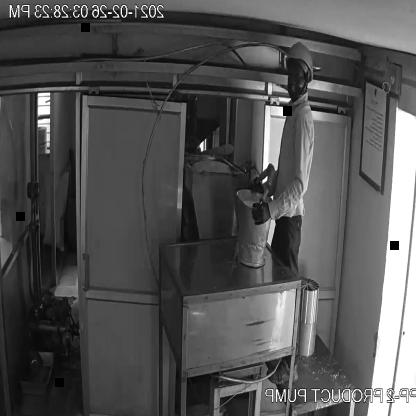helmet: (283, 37, 317, 82)
